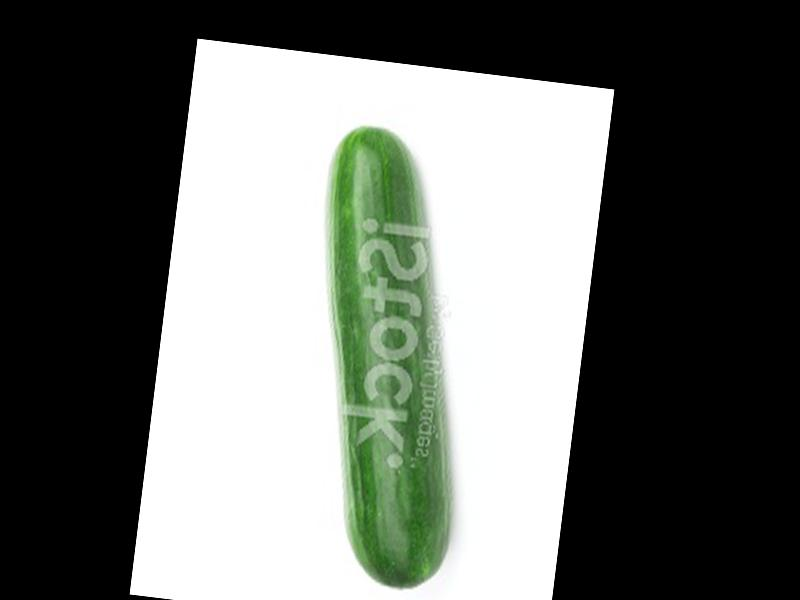Cucumber: (281, 120, 496, 595)
